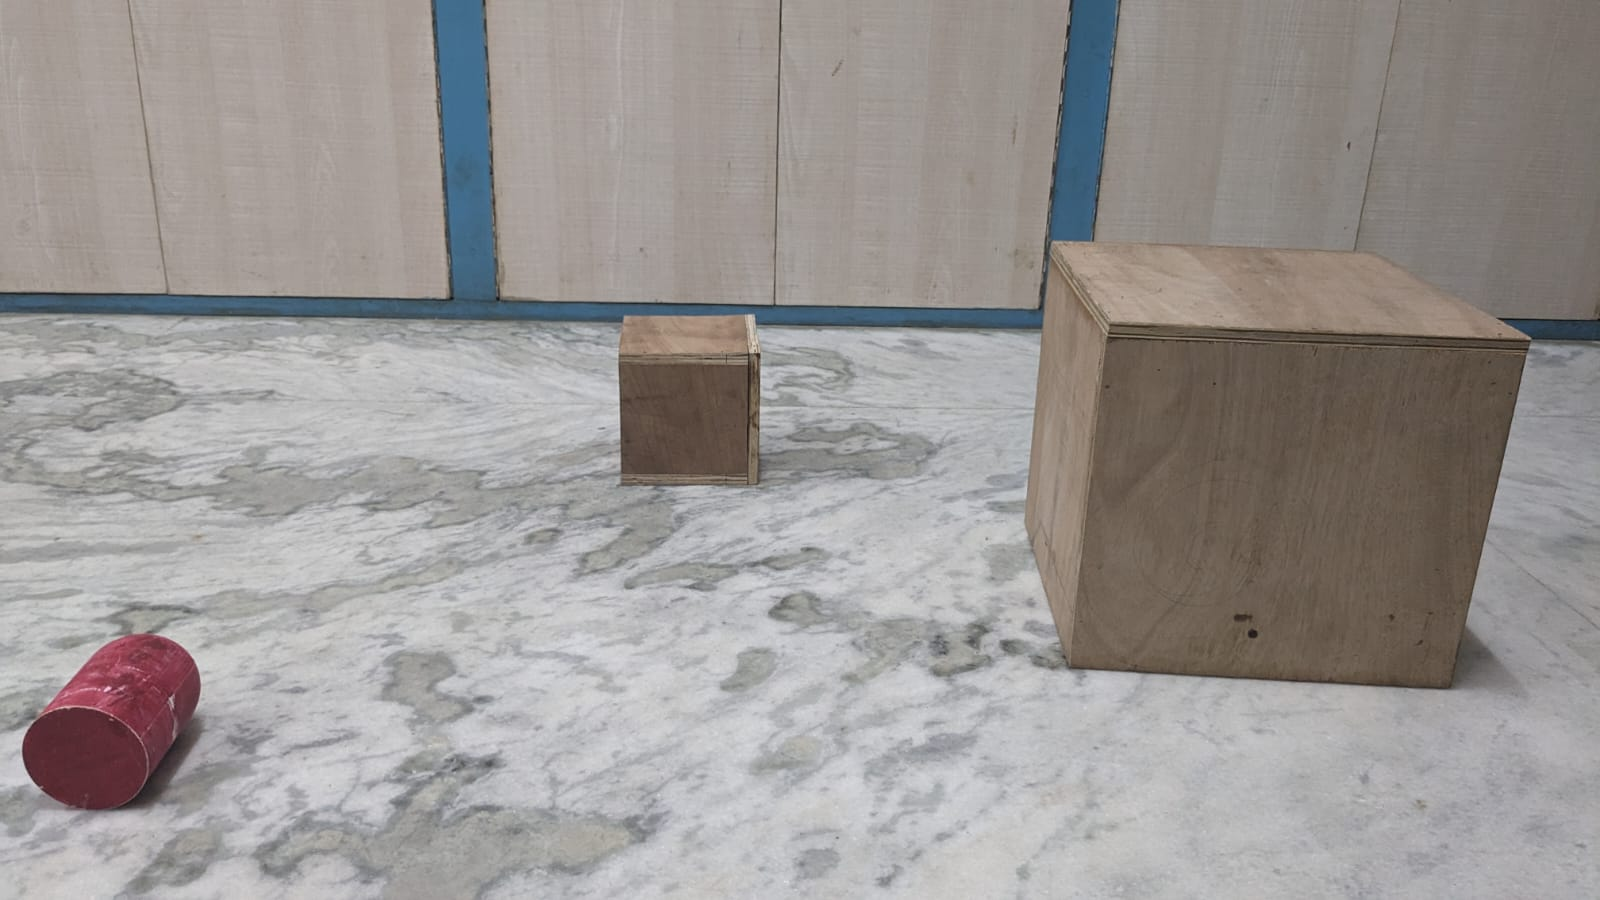150mm obstacle: (599, 298, 792, 504)
300mm obstacle: (1012, 205, 1546, 731)
testtube: (7, 614, 216, 844)
